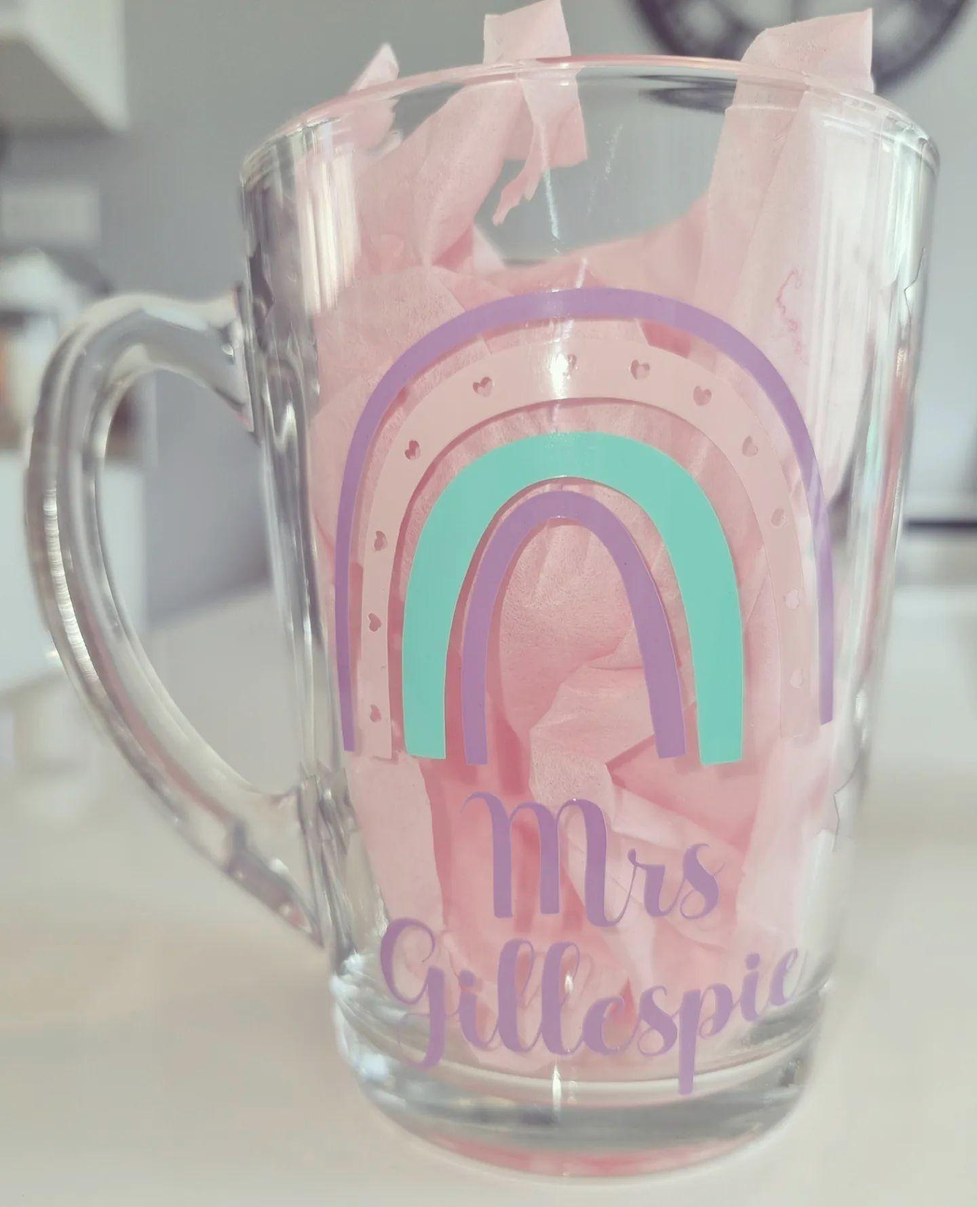glass-mug: (0, 40, 959, 1166)
